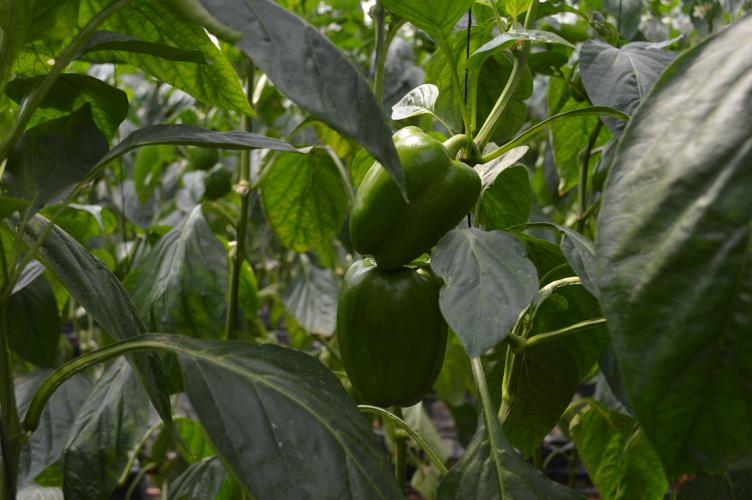BellPepper: (345, 124, 481, 269), (328, 258, 448, 409)
